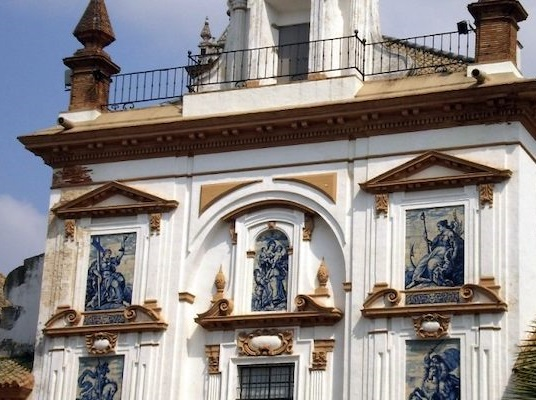fronton: (358, 149, 515, 196), (52, 178, 180, 221)
fronton-partido: (359, 280, 508, 320), (192, 293, 344, 331), (39, 300, 171, 340)
